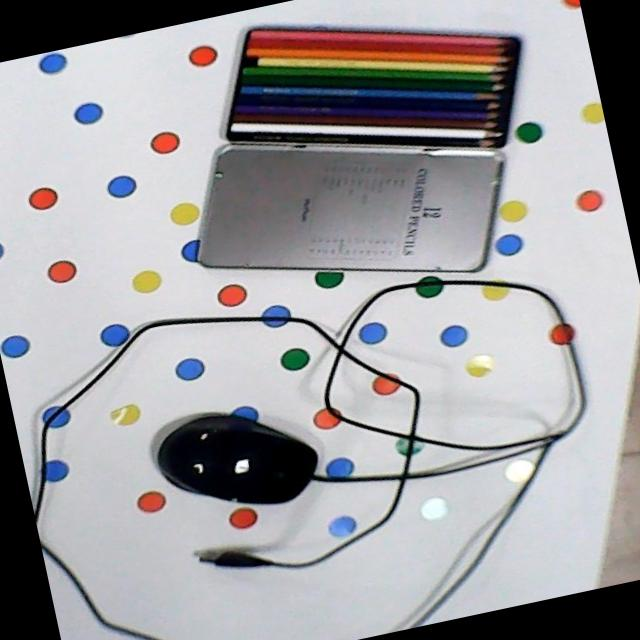color: (221, 18, 530, 154)
mouse: (151, 406, 325, 507)
